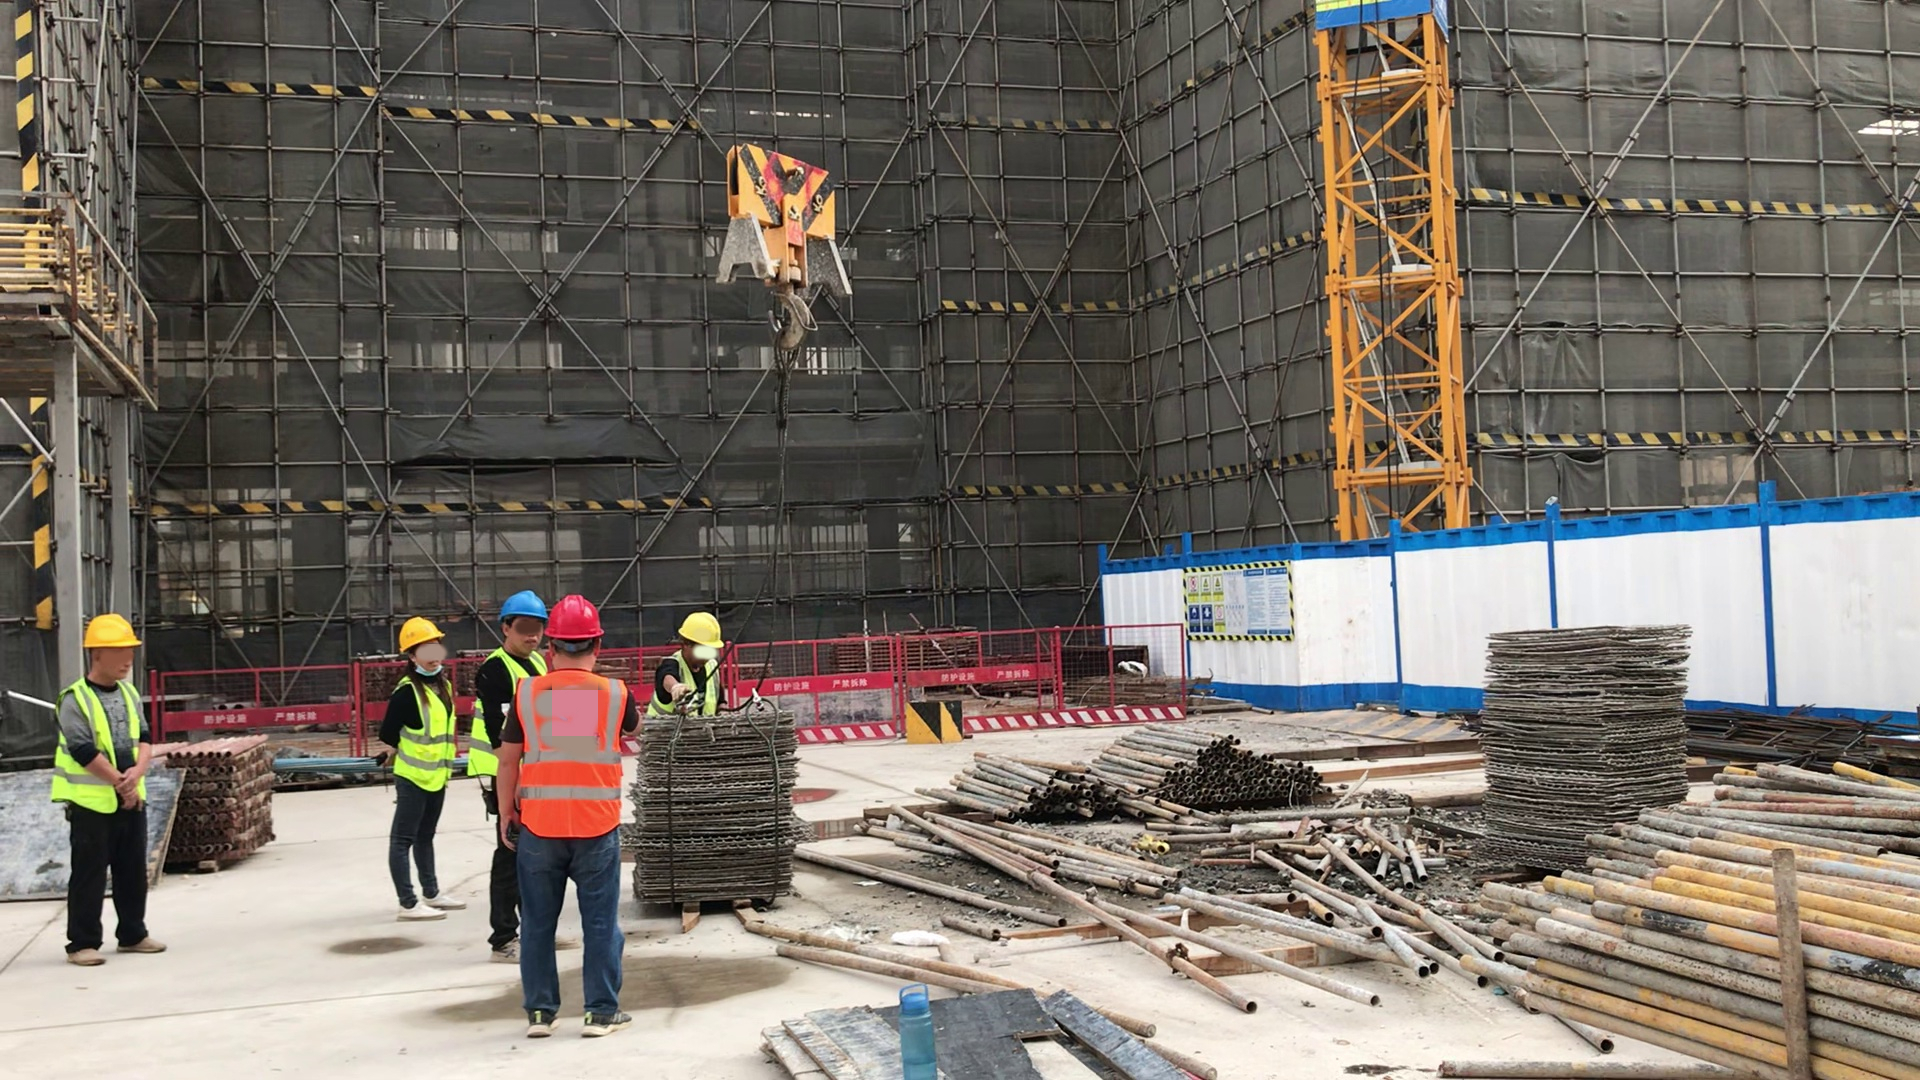fence: (967, 626, 1192, 731), (145, 662, 370, 738), (795, 636, 901, 744)
helmet: (544, 596, 607, 641), (83, 616, 143, 652), (678, 613, 724, 650), (396, 616, 443, 651), (496, 592, 549, 620)
hook: (708, 138, 859, 358)
person: (495, 592, 645, 1040), (49, 613, 174, 969), (374, 614, 470, 920), (651, 610, 726, 715), (474, 591, 549, 679)
scaffold: (1497, 753, 1920, 1077), (1110, 724, 1341, 815), (917, 743, 1128, 824), (171, 731, 278, 874)
slogan: (1185, 564, 1289, 639)
vest: (516, 671, 630, 840), (53, 677, 152, 817), (392, 674, 459, 796), (644, 654, 726, 721)
